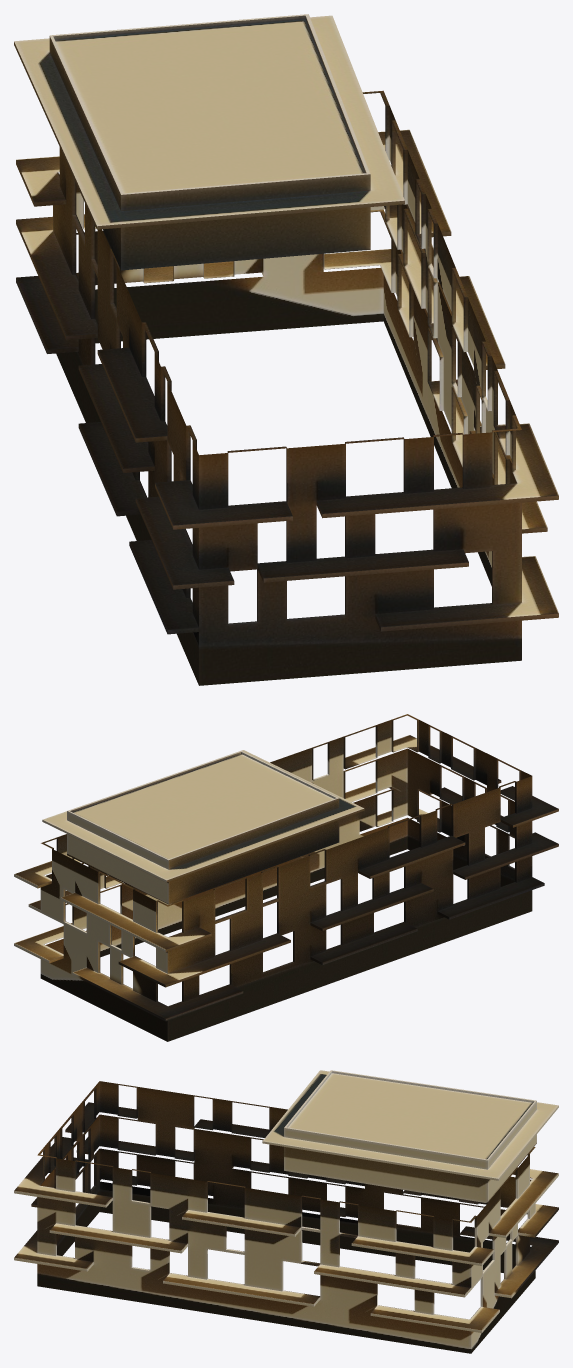
Rendered from Building_06.fbx.
3 views of the same model, one above another, from view 1: azimuth 30°, elevation 25°; view 2: azimuth 150°, elevation 25°; view 3: azimuth 270°, elevation 25° (orthographic). The views are drawn at different scales.
Parts seen in each view (by area): view 1: Building_06; view 2: Building_06; view 3: Building_06.
Part boxes in pixels (<box>): Building_06: <box>14,14,558,685</box>; Building_06: <box>14,714,558,1041</box>; Building_06: <box>14,1070,558,1353</box>.
Size of the model in its own units: 31.19 by 15.91 by 44.47.
Materials: 1 (1 with a texture image).
